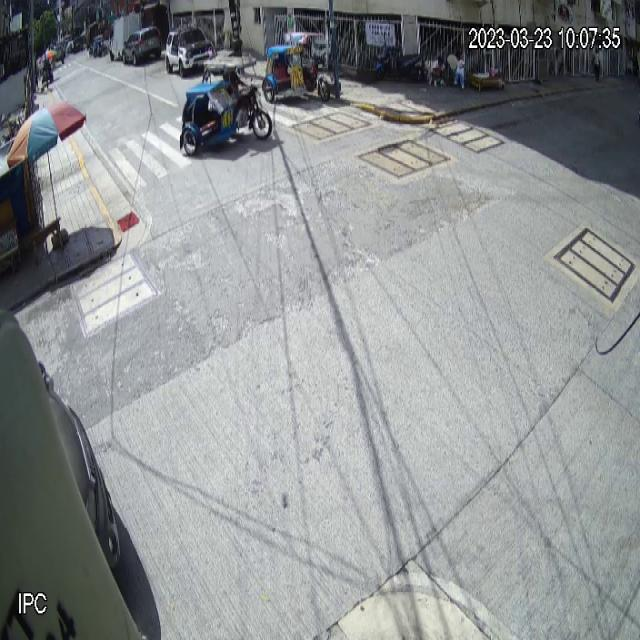Tricycle: (179, 54, 272, 160), (261, 31, 331, 104)
